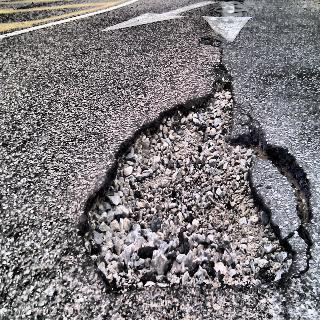pothole: (85, 63, 313, 285)
